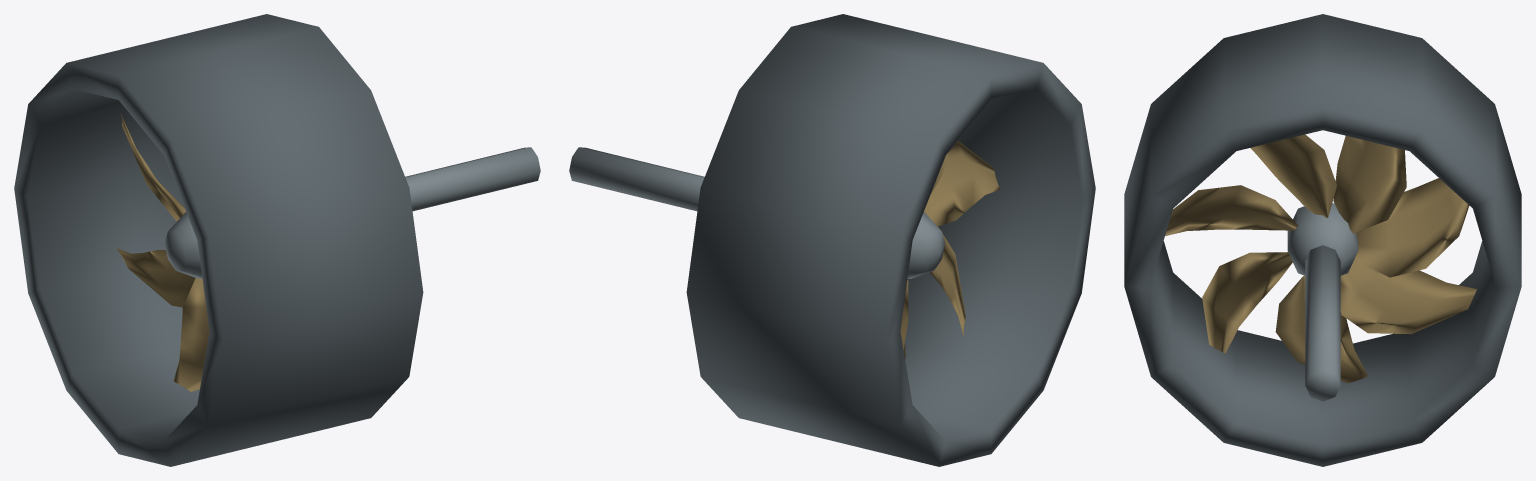
Rendered from RU_PROP_Typhoon_LOD3.fbx.
3 views of the same model, side by side, from view 1: azimuth 30°, elevation 25°; view 2: azimuth 150°, elevation 25°; view 3: azimuth 270°, elevation 25° (orthographic). The views are drawn at different scales.
Parts seen in each view (by area): view 1: RU_PROP_Typhoon_LOD3_Shroud.001, RU_PROP_Typhoon_LOD3_Shaft.001, RU_PROP_Typhoon_LOD3_Blade_05.001, RU_PROP_Typhoon_LOD3_Blade_06.001, RU_PROP_Typhoon_LOD3_Hub.001, RU_PROP_Typhoon_LOD3_Blade_00.001; view 2: RU_PROP_Typhoon_LOD3_Shroud.001, RU_PROP_Typhoon_LOD3_Shaft.001, RU_PROP_Typhoon_LOD3_Blade_03.001, RU_PROP_Typhoon_LOD3_Hub.001, RU_PROP_Typhoon_LOD3_Blade_04.001; view 3: RU_PROP_Typhoon_LOD3_Shroud.001, RU_PROP_Typhoon_LOD3_Blade_00.001, RU_PROP_Typhoon_LOD3_Blade_06.001, RU_PROP_Typhoon_LOD3_Blade_01.001, RU_PROP_Typhoon_LOD3_Shaft.001, RU_PROP_Typhoon_LOD3_Blade_04.001, RU_PROP_Typhoon_LOD3_Blade_03.001, RU_PROP_Typhoon_LOD3_Blade_02.001, RU_PROP_Typhoon_LOD3_Hub.001, RU_PROP_Typhoon_LOD3_Blade_05.001.
Boxes of the visible parts, x1,y1,x2,y2 form: RU_PROP_Typhoon_LOD3_Shroud.001: [14, 14, 423, 466]; RU_PROP_Typhoon_LOD3_Shaft.001: [405, 147, 540, 211]; RU_PROP_Typhoon_LOD3_Blade_05.001: [173, 278, 209, 391]; RU_PROP_Typhoon_LOD3_Blade_06.001: [116, 248, 195, 307]; RU_PROP_Typhoon_LOD3_Hub.001: [165, 212, 202, 278]; RU_PROP_Typhoon_LOD3_Blade_00.001: [120, 114, 185, 221]; RU_PROP_Typhoon_LOD3_Shroud.001: [686, 14, 1095, 466]; RU_PROP_Typhoon_LOD3_Shaft.001: [569, 147, 704, 211]; RU_PROP_Typhoon_LOD3_Blade_03.001: [924, 141, 999, 226]; RU_PROP_Typhoon_LOD3_Hub.001: [907, 212, 944, 278]; RU_PROP_Typhoon_LOD3_Blade_04.001: [930, 226, 965, 336]; RU_PROP_Typhoon_LOD3_Shroud.001: [1124, 14, 1521, 466]; RU_PROP_Typhoon_LOD3_Blade_00.001: [1355, 178, 1469, 277]; RU_PROP_Typhoon_LOD3_Blade_06.001: [1340, 257, 1476, 334]; RU_PROP_Typhoon_LOD3_Blade_01.001: [1333, 136, 1406, 233]; RU_PROP_Typhoon_LOD3_Shaft.001: [1305, 245, 1340, 401]; RU_PROP_Typhoon_LOD3_Blade_04.001: [1202, 252, 1292, 353]; RU_PROP_Typhoon_LOD3_Blade_03.001: [1165, 185, 1298, 235]; RU_PROP_Typhoon_LOD3_Blade_02.001: [1250, 134, 1336, 217]; RU_PROP_Typhoon_LOD3_Hub.001: [1287, 203, 1358, 275]; RU_PROP_Typhoon_LOD3_Blade_05.001: [1275, 275, 1368, 383].
Size of the model in its own units: 800 by 700 by 700.
